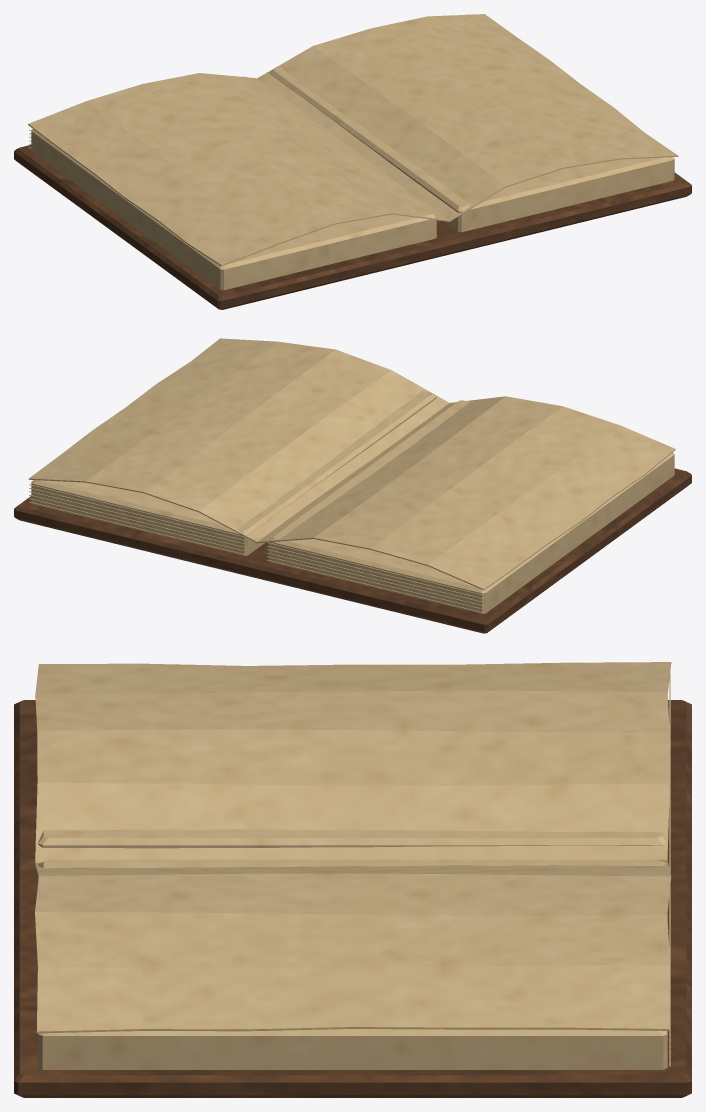
Rendered from Notebook_Open.obj.
3 renders of one model, top to bottom at view 1: azimuth 30°, elevation 25°; view 2: azimuth 150°, elevation 25°; view 3: azimuth 270°, elevation 25°, orthographic. The views are drawn at different scales.
Parts seen in each view (by area): view 1: Notebook_OpenPages, Notebook_CoverAndEdges; view 2: Notebook_OpenPages, Notebook_CoverAndEdges; view 3: Notebook_OpenPages, Notebook_CoverAndEdges.
Boxes of the visible parts, x1,y1,x2,y2 form: Notebook_OpenPages: (28, 14, 678, 266); Notebook_CoverAndEdges: (14, 67, 691, 309); Notebook_OpenPages: (28, 338, 675, 590); Notebook_CoverAndEdges: (14, 390, 691, 633); Notebook_OpenPages: (35, 662, 671, 1033); Notebook_CoverAndEdges: (14, 673, 691, 1097).
Size of the model in its own units: 0.65 by 0.0714 by 0.49.
Materials: 3 (3 with a texture image).
